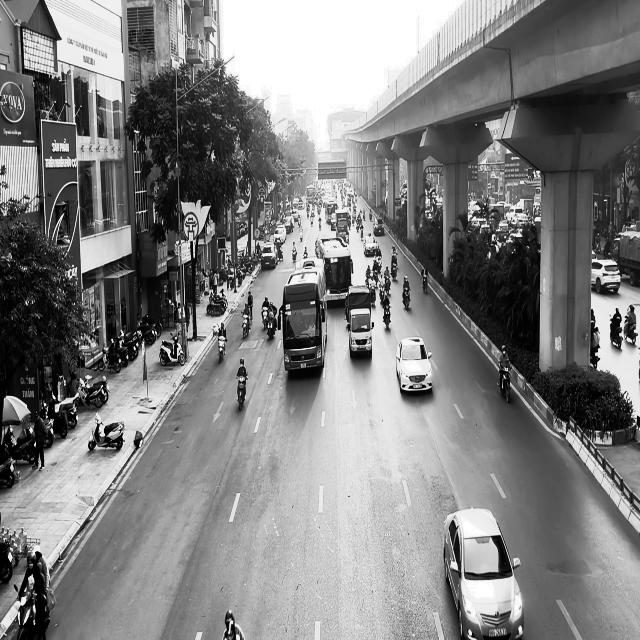bus: (281, 258, 328, 373), (315, 235, 353, 306)
car: (443, 506, 524, 639), (396, 336, 432, 393), (347, 307, 374, 358), (591, 259, 621, 294), (363, 234, 377, 256), (374, 217, 384, 235)
motorbike: (88, 412, 125, 451), (159, 332, 185, 366), (497, 361, 511, 403), (235, 374, 248, 411), (609, 314, 622, 349), (624, 315, 637, 344), (266, 306, 276, 338), (217, 335, 227, 363), (382, 302, 391, 328), (242, 312, 250, 338), (420, 270, 428, 293), (402, 287, 410, 309)
